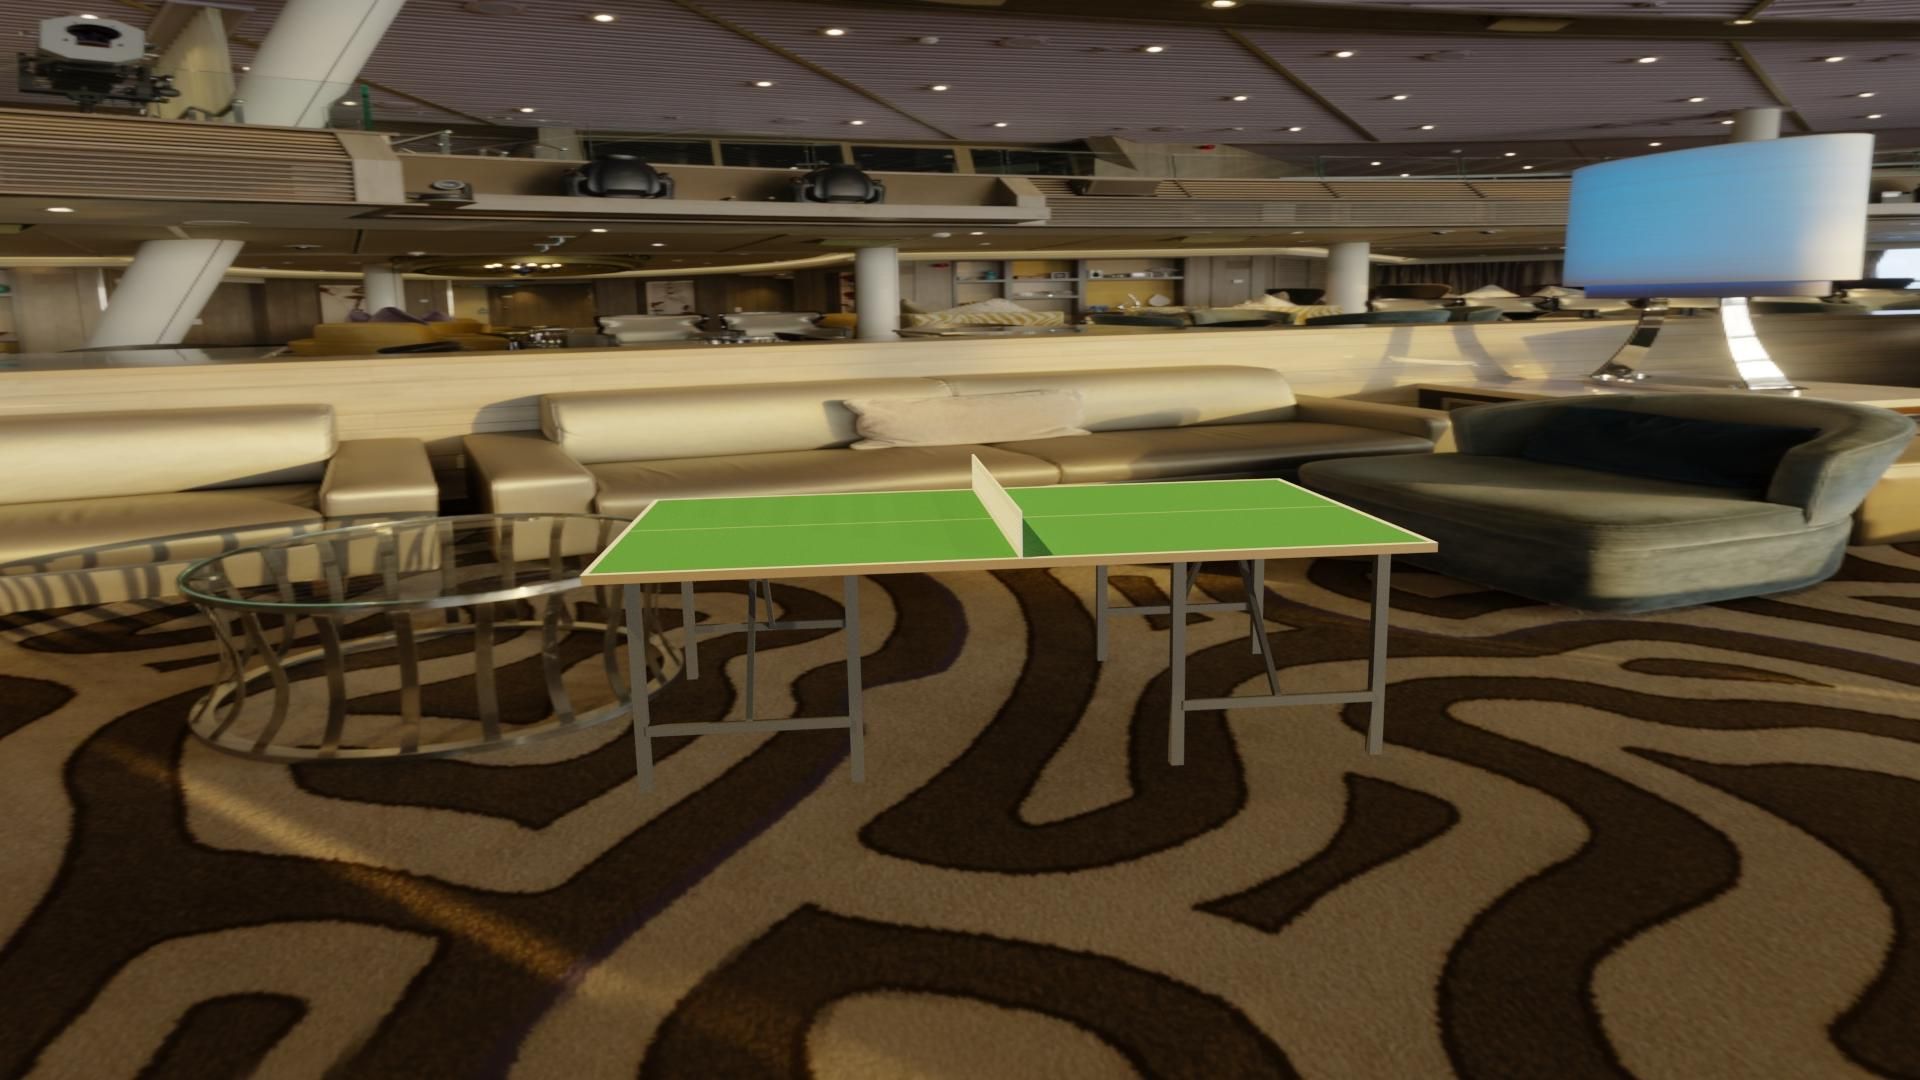table: (588, 480, 1429, 574)
